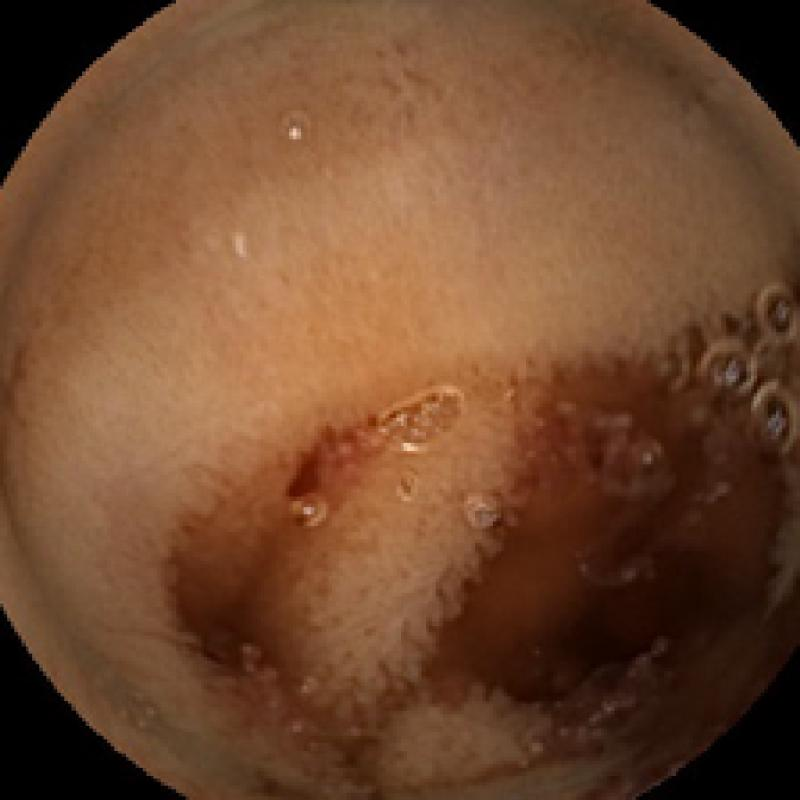bleeding: (282, 432, 354, 514)
